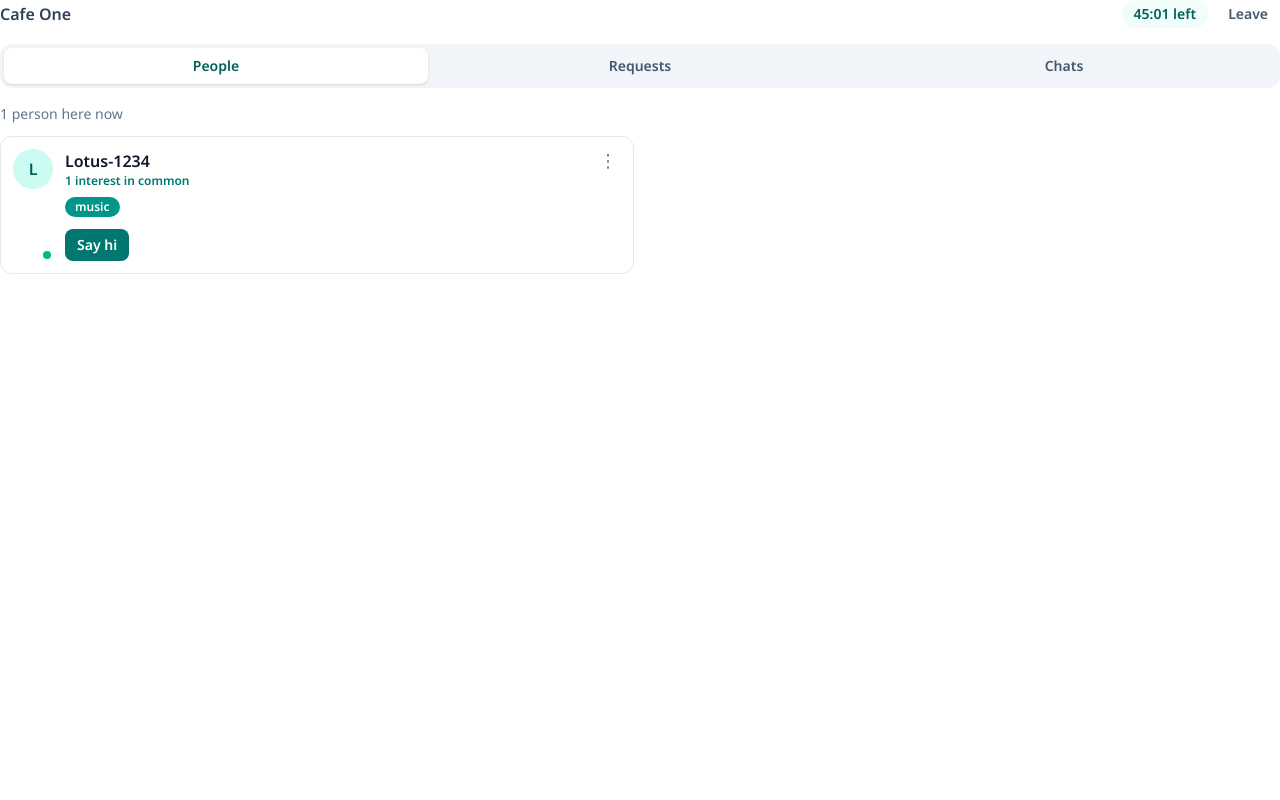
Test case: HomePage › a guest reports someone from the people list, and is told it worked
Step 1. Click the button named "More options" → [608, 160], box [595,151,621,169]
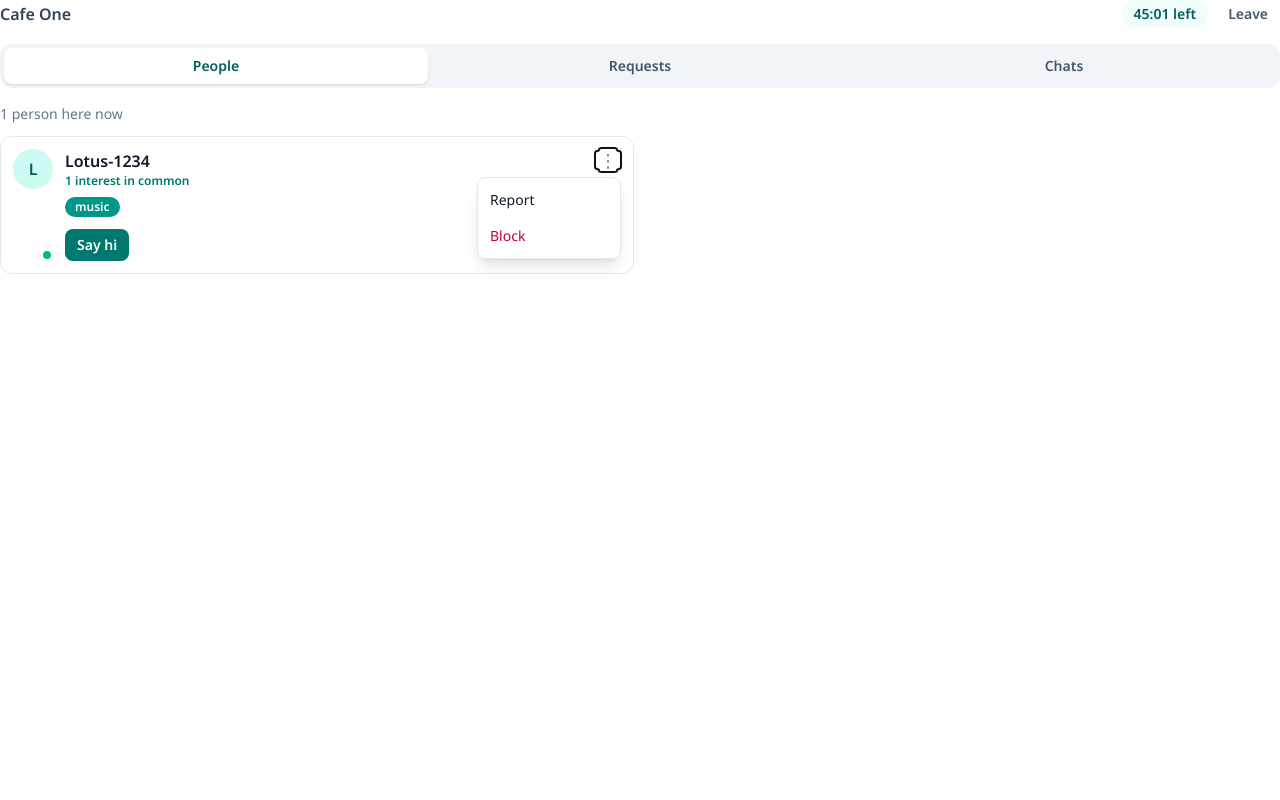
Step 2. Click the button "Report" → [549, 200], box [478,182,620,218]
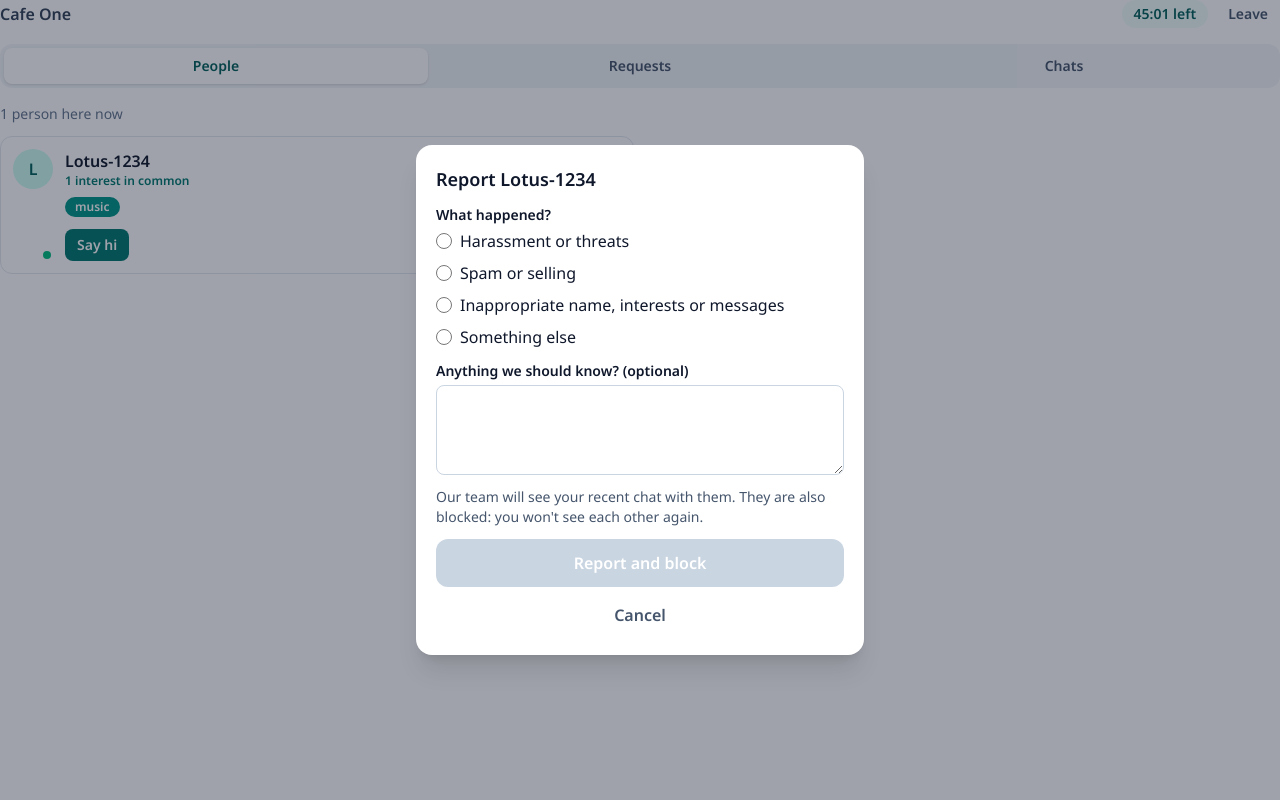
Step 3. Click the radio button labelled "Inappropriate name, interests or messages" → [444, 305], box [436,297,452,313]
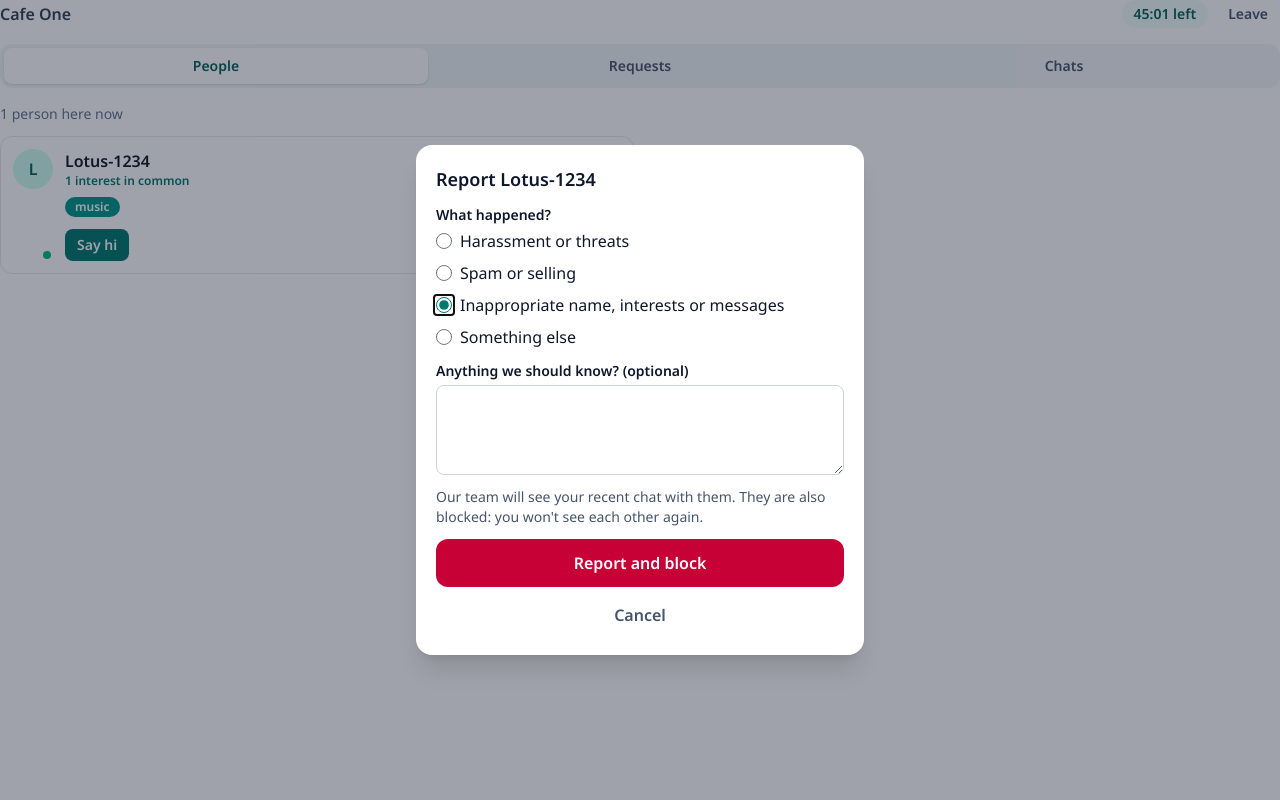
Step 4. Click the button "Report and block" → [640, 563], box [436,539,844,587]
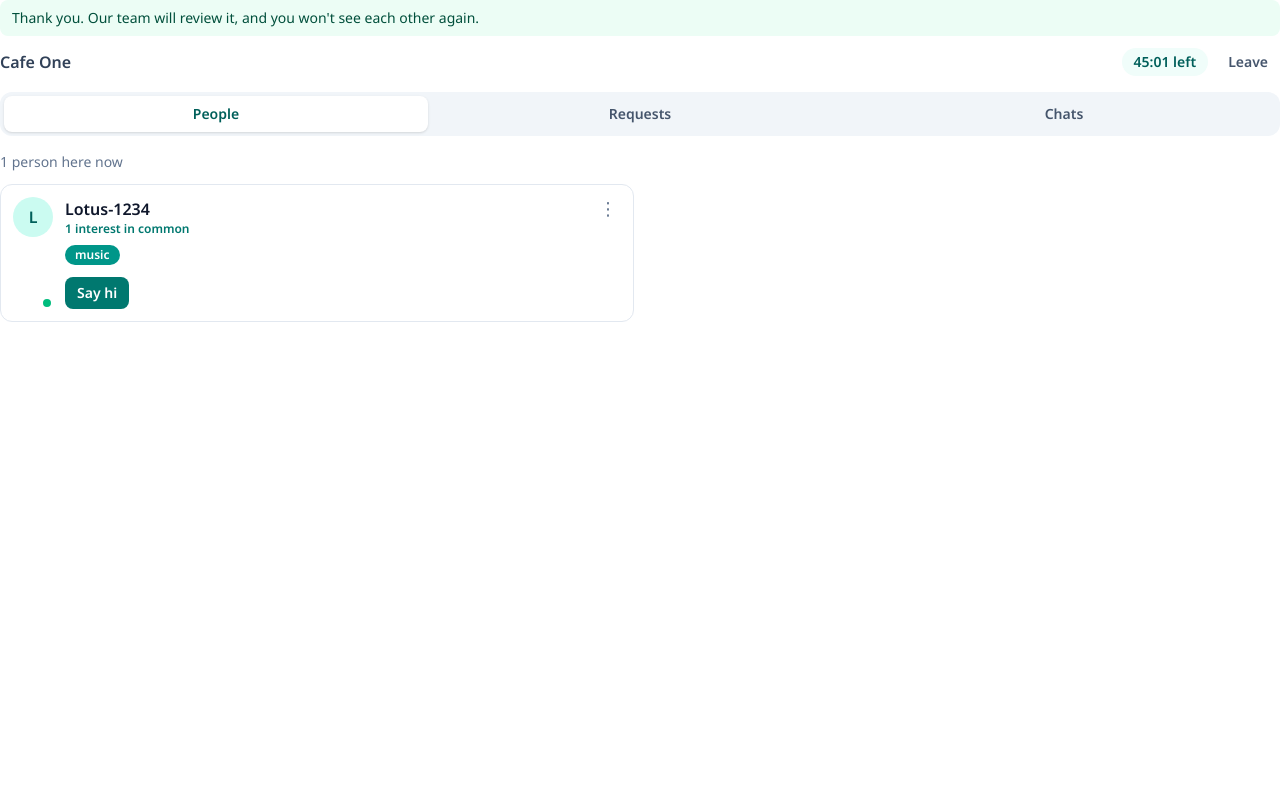
Expected: the text "Thank you. Our team will review it, and you won't see each other again." is shown, [0,0,1279,36]
